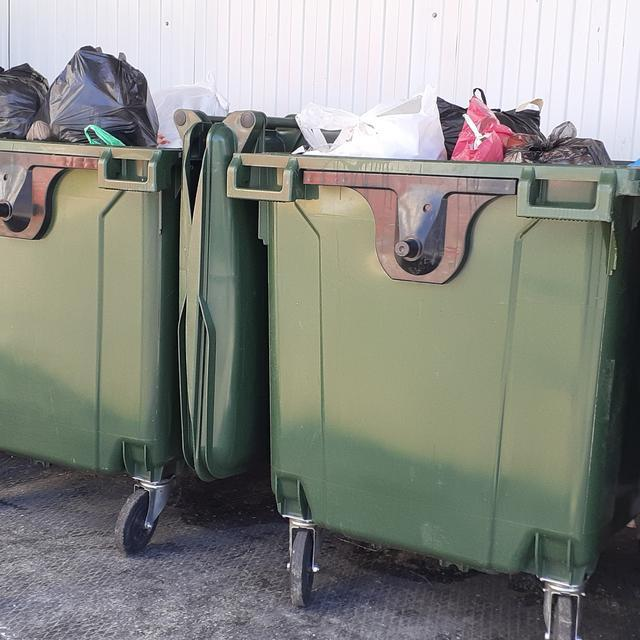Trash_Can_Full: (225, 87, 640, 589), (0, 45, 226, 481)
